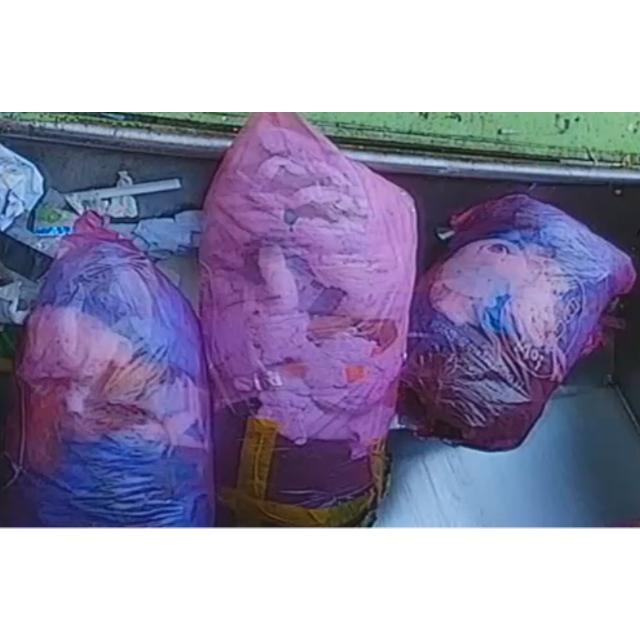other_trashbag: (200, 112, 415, 526), (0, 211, 212, 526), (398, 194, 635, 449)
